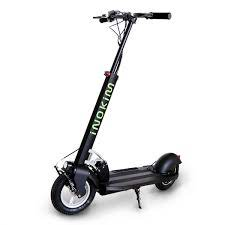kick_board: (52, 10, 181, 213)
kick_body: (110, 169, 154, 187)
kick_handler: (93, 11, 173, 23)
kick_wheel: (51, 169, 97, 214), (155, 153, 182, 189)
